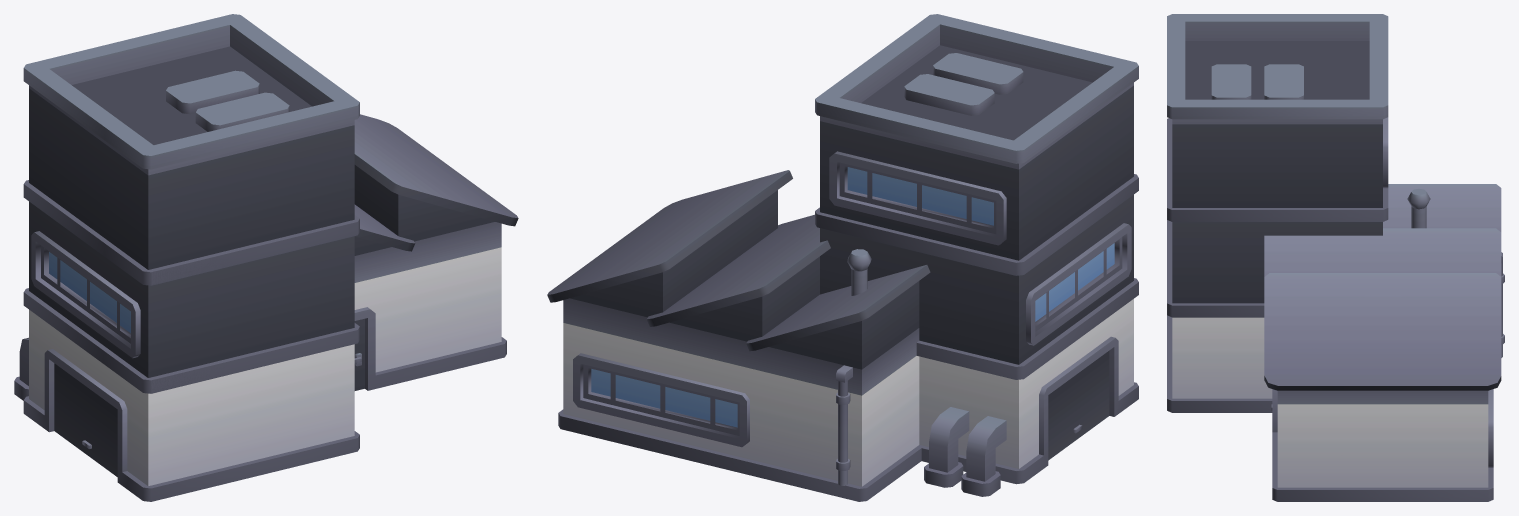
The model's file is k-city-kit-industrial-building-g.glb.
3 views of the same model, side by side, from view 1: azimuth 30°, elevation 25°; view 2: azimuth 150°, elevation 25°; view 3: azimuth 270°, elevation 25° (orthographic). The views are drawn at different scales.
Visible parts, largest first — view 1: building-g; view 2: building-g; view 3: building-g.
Boxes of the visible parts, x1,y1,x2,y2 form: building-g: (14,14,518,501); building-g: (547,14,1138,501); building-g: (1167,14,1504,501).
Bounding box in the file's own units: 1.68 × 1.28 × 1.28.
Materials: 1 (1 with a texture image).
